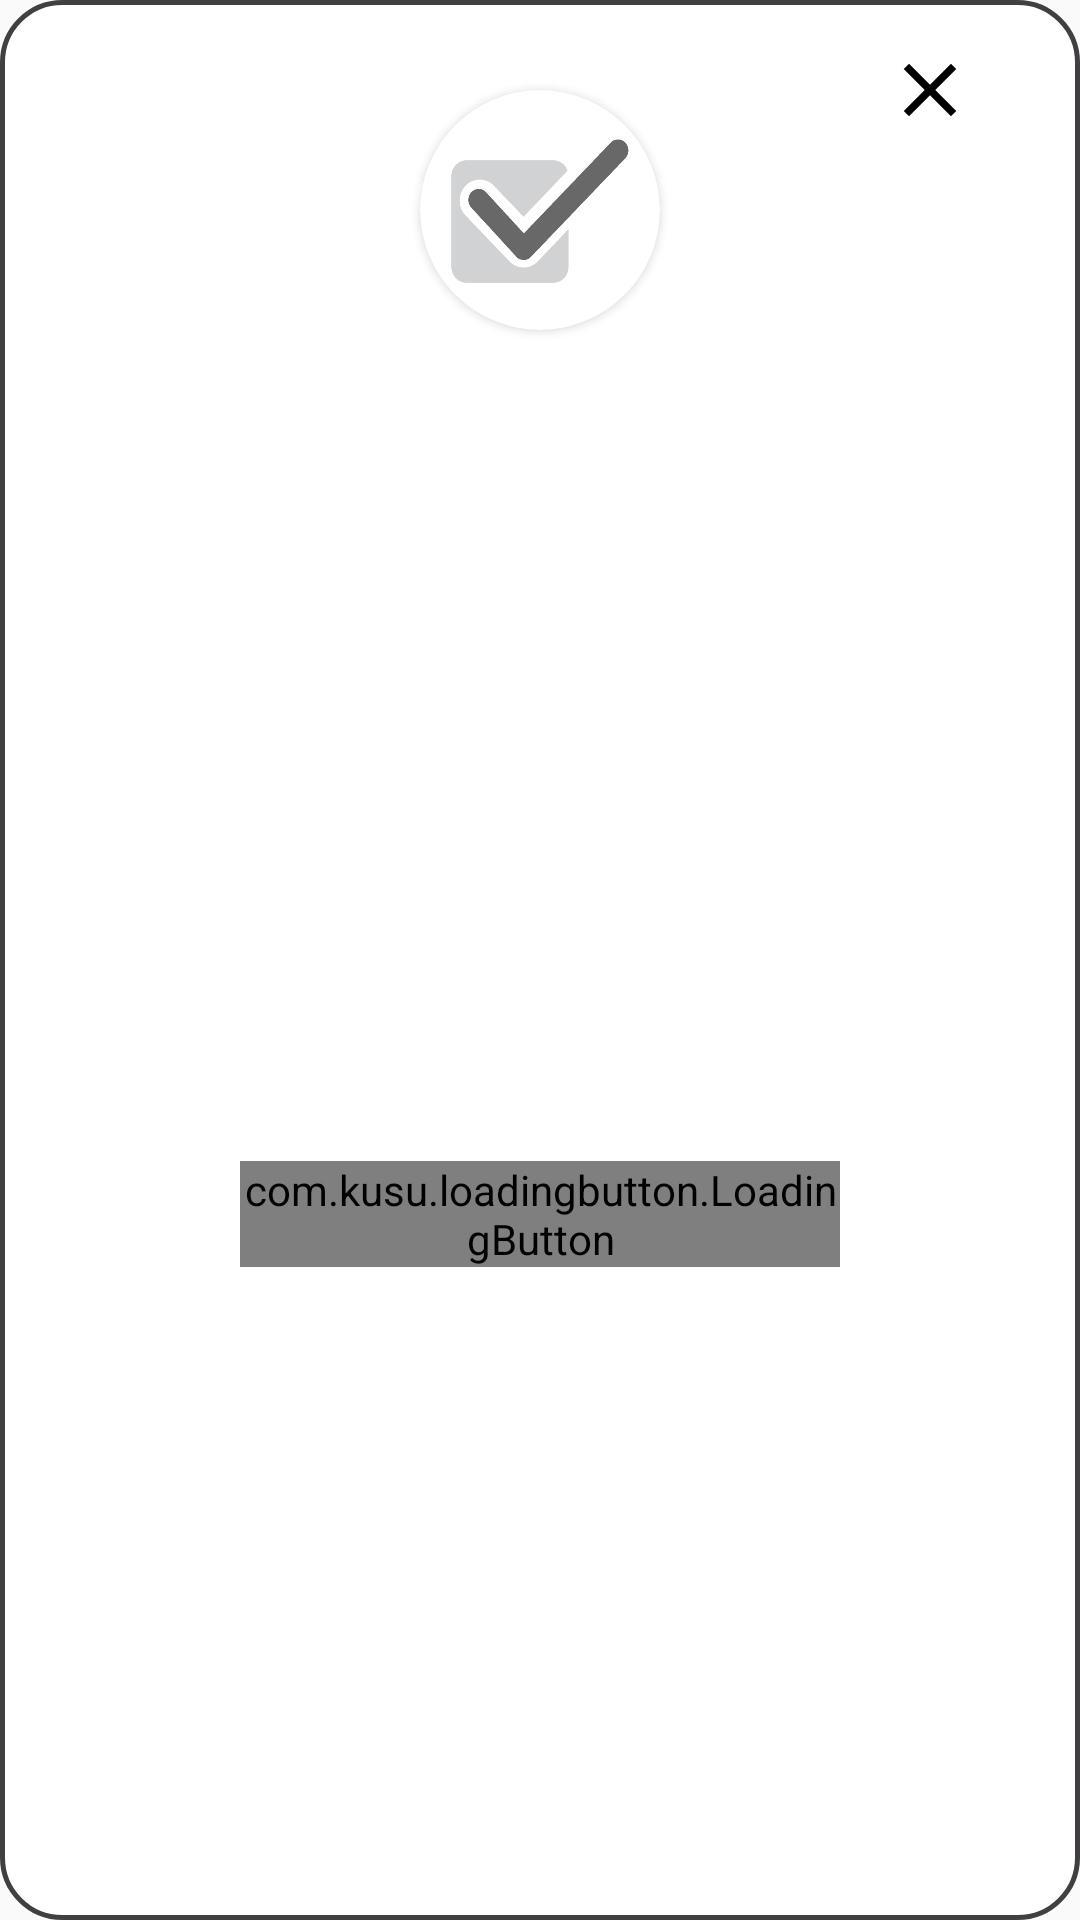

Locate icon controls on the screen. Image size 1080 x 1920, boxes as (x1, y1, x2, y2).
close: (904, 64, 956, 116)
